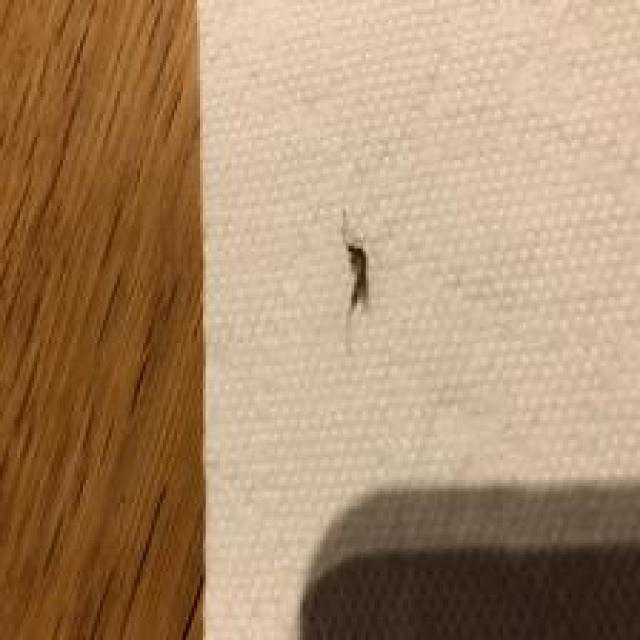Culex: (339, 207, 370, 316)
